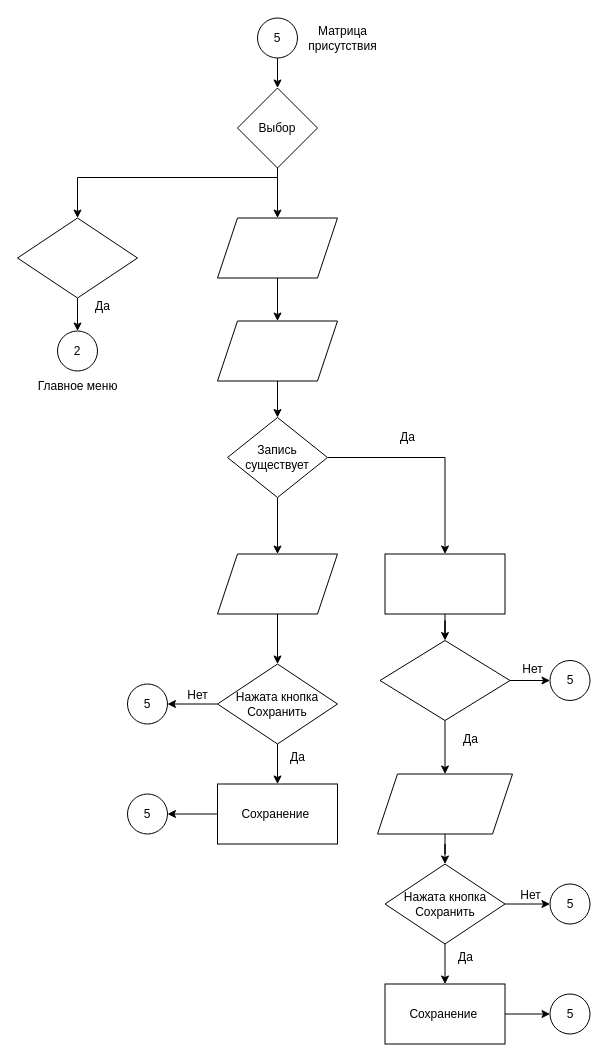
The diagram is 608 pixels wide and 1061 high, and some of its shapes have lost their labels. Each missing label, with the centre of its shape:
Выбор дивизиона: the point at 277,247
Выбор дня: the point at 277,350
Заполнение матрицы: the point at 277,583
Нажата кнопка назад: the point at 77,257
Нажата кнопка Редактирования: the point at 444,680
Просмотр отработанных часов сотрудниками: the point at 444,583
Редактирование отработанных часов: the point at 444,803
